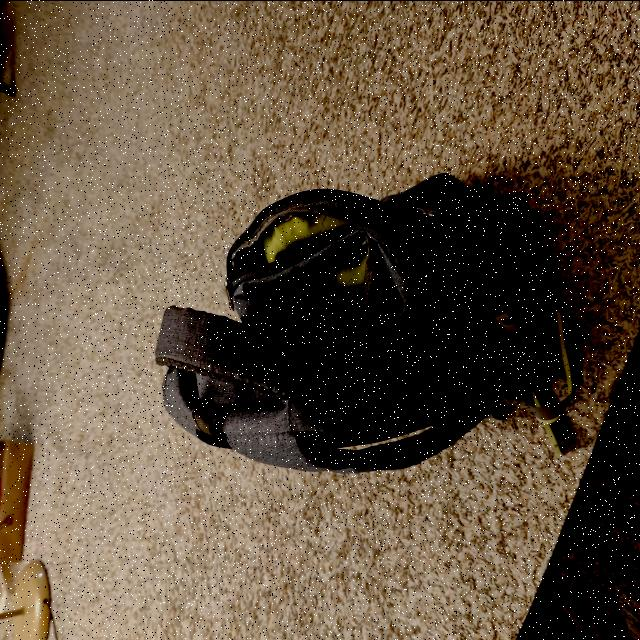bag: (155, 179, 548, 467)
